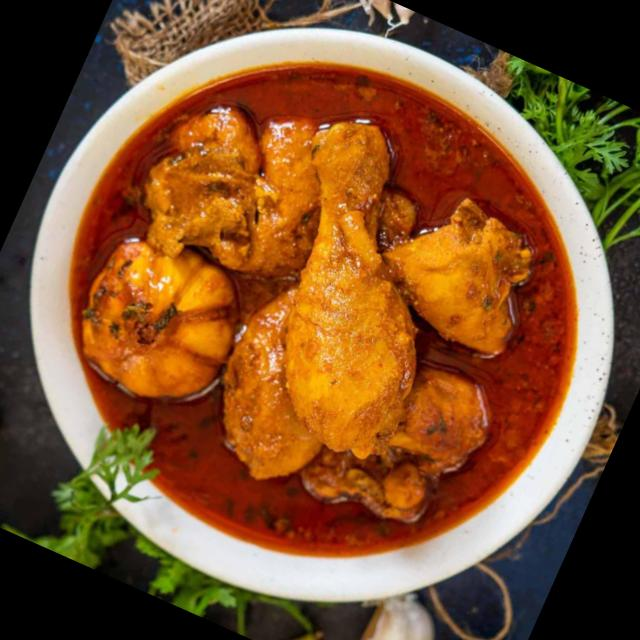chicken: (41, 47, 596, 608)
